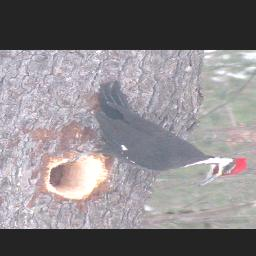Woodpecker: (59, 80, 252, 186)
